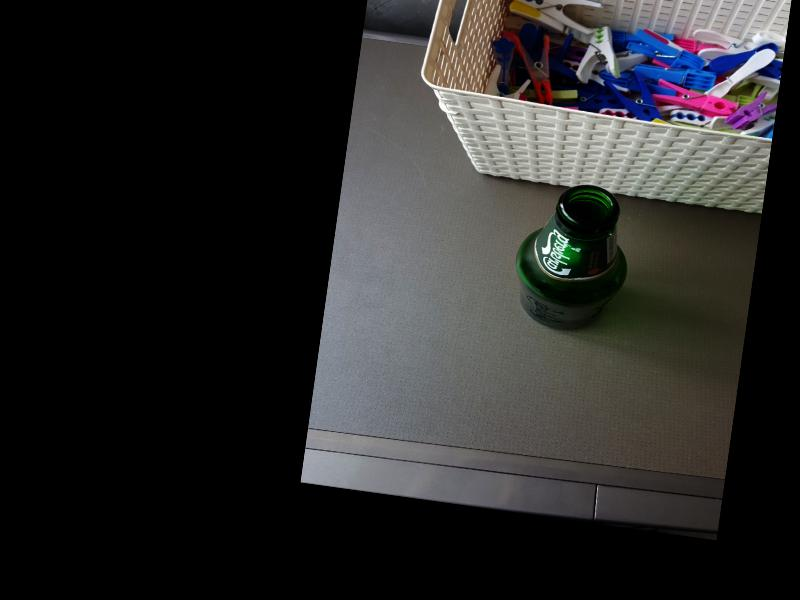Beer: (506, 177, 637, 338)
